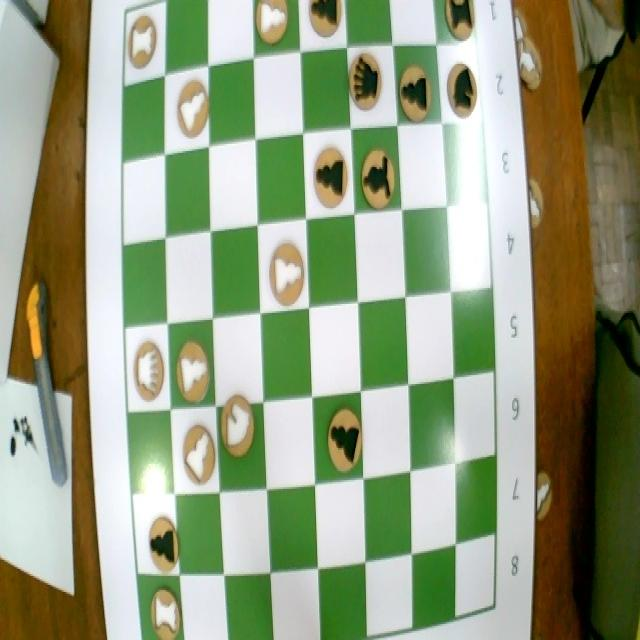chess-pieces: (135, 498, 185, 577), (260, 225, 306, 309), (218, 385, 263, 469), (304, 138, 352, 209), (355, 137, 400, 211), (127, 328, 168, 406), (169, 332, 211, 408), (319, 406, 361, 479), (394, 51, 438, 120), (348, 47, 390, 118), (178, 416, 216, 491), (138, 583, 186, 637), (252, 0, 297, 57), (444, 60, 484, 123), (172, 76, 210, 142), (126, 9, 162, 72), (436, 0, 482, 48), (307, 0, 346, 51)
